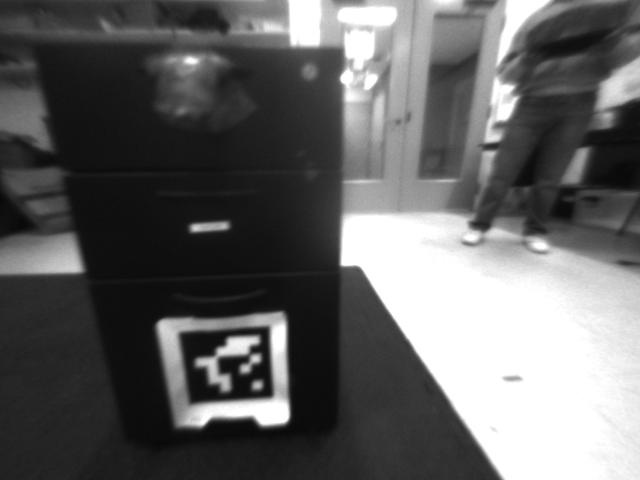door_handle: (384, 114, 403, 129)
drawer: (142, 54, 255, 137)
